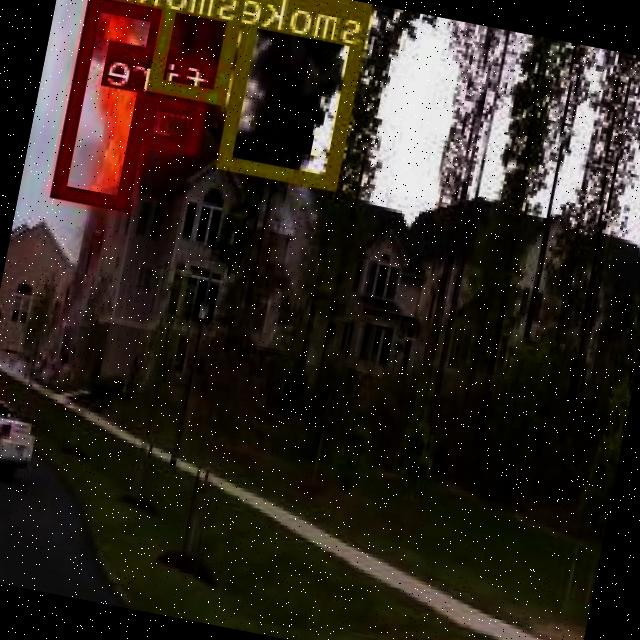fire: (54, 0, 170, 209), (141, 92, 208, 152)
smoke: (221, 0, 374, 187), (153, 0, 252, 101)
